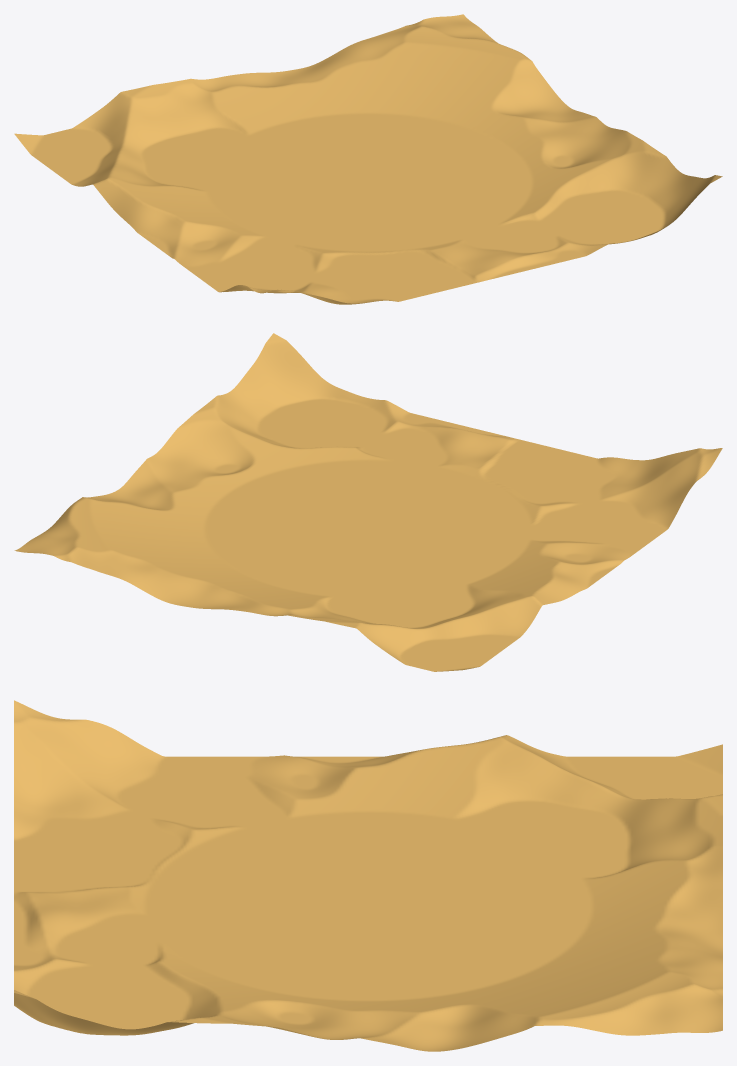
File: GroundPiramida.fbx
3 views of the same model, one above another, from view 1: azimuth 30°, elevation 25°; view 2: azimuth 150°, elevation 25°; view 3: azimuth 270°, elevation 25° (orthographic). The views are drawn at different scales.
Parts seen in each view (by area): view 1: Plane; view 2: Plane; view 3: Plane.
Boxes of the visible parts, bbox=[...] form: Plane: bbox=[14, 14, 722, 304]; Plane: bbox=[14, 333, 722, 671]; Plane: bbox=[14, 700, 722, 1051].
Bounding box in the file's own units: 2000 × 197 × 2000.
